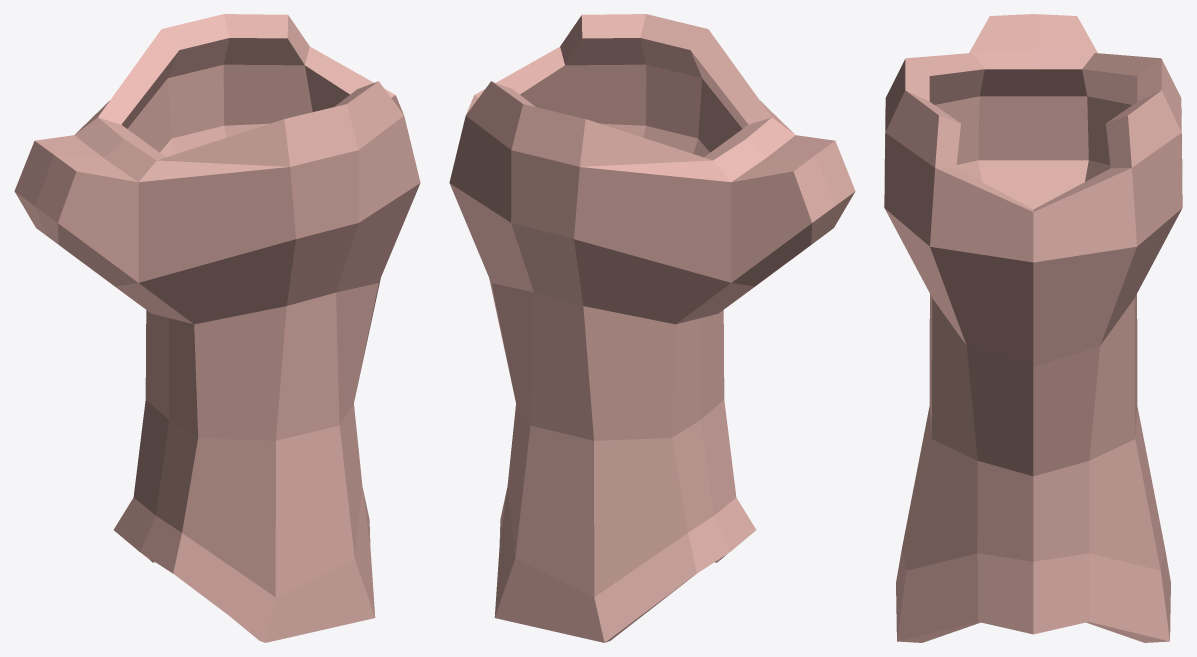
The model's file is cb_lower_leg_2.gltf.
The picture shows the model from 3 angles, left to right: view 1: azimuth 30°, elevation 25°; view 2: azimuth 150°, elevation 25°; view 3: azimuth 270°, elevation 25°; orthographic projection. The views are drawn at different scales.
Parts seen in each view (by area): view 1: Cube.028; view 2: Cube.028; view 3: Cube.028.
Boxes of the visible parts, x1=… form: Cube.028: x1=14, y1=14, x2=420, y2=642; Cube.028: x1=449, y1=14, x2=855, y2=642; Cube.028: x1=884, y1=14, x2=1182, y2=642.
Size of the model in its own units: 3.1 by 4.17 by 2.07.
